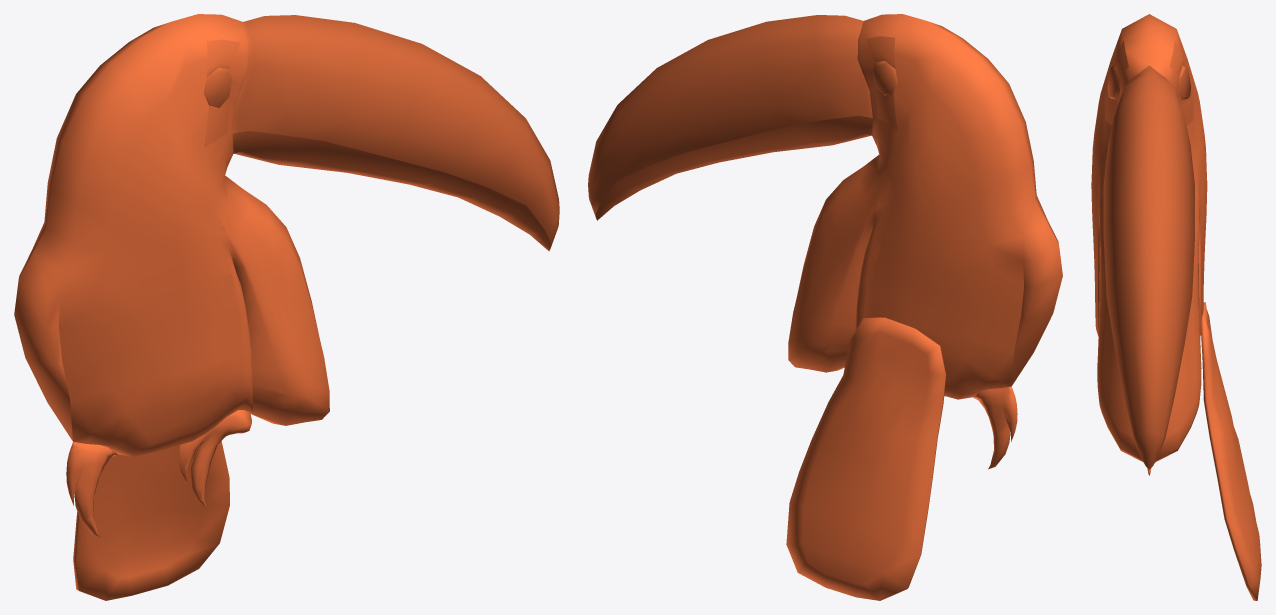
The model's file is modelo-03.glb.
3 views of the same model, side by side, from view 1: azimuth 30°, elevation 25°; view 2: azimuth 150°, elevation 25°; view 3: azimuth 270°, elevation 25° (orthographic). The views are drawn at different scales.
Visible parts, largest first — view 1: 1 tucano rabo; view 2: 1 tucano rabo; view 3: 1 tucano rabo.
Part boxes in pixels (box(x1,y1,x2,y2)): 1 tucano rabo: box(14, 14, 559, 600); 1 tucano rabo: box(588, 14, 1062, 600); 1 tucano rabo: box(1091, 14, 1261, 600).
Size of the model in its own units: 3.7 by 4.04 by 1.12.
Materials: 2 (2 with a texture image).
